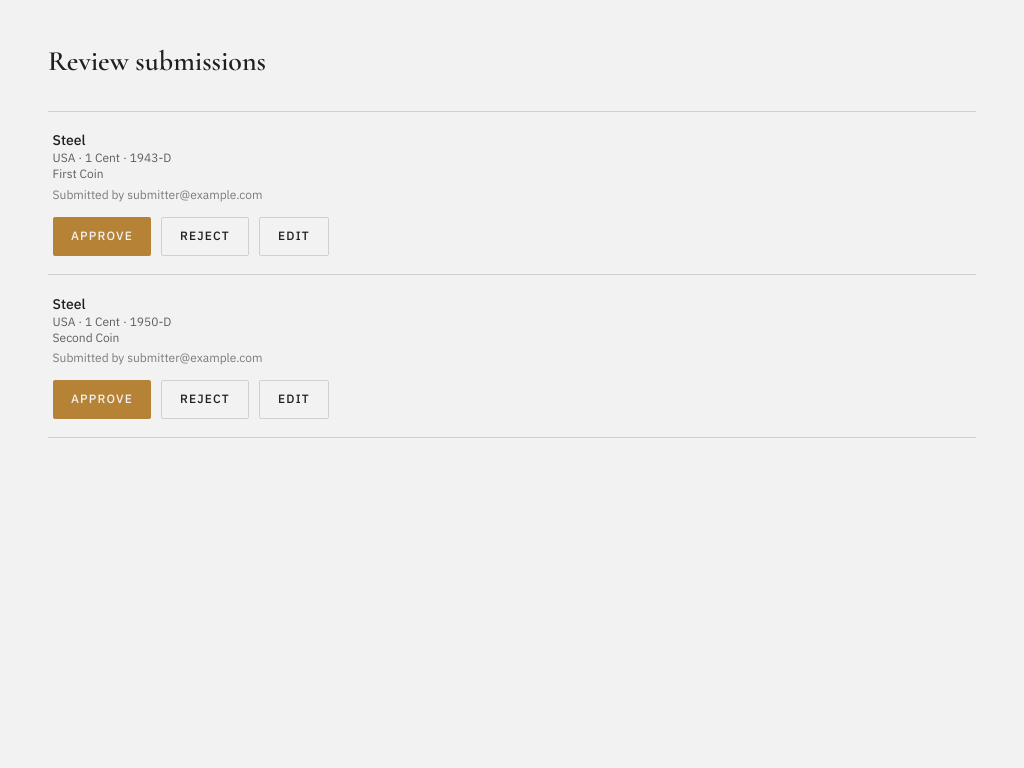
Scenario: AdminSubmissionsPage › reject (criteria #16, #20) › removes the rejected coin from the list after the refetch
Click the button with test id "admin-submission-reject": (205, 236) [161, 217, 249, 256]
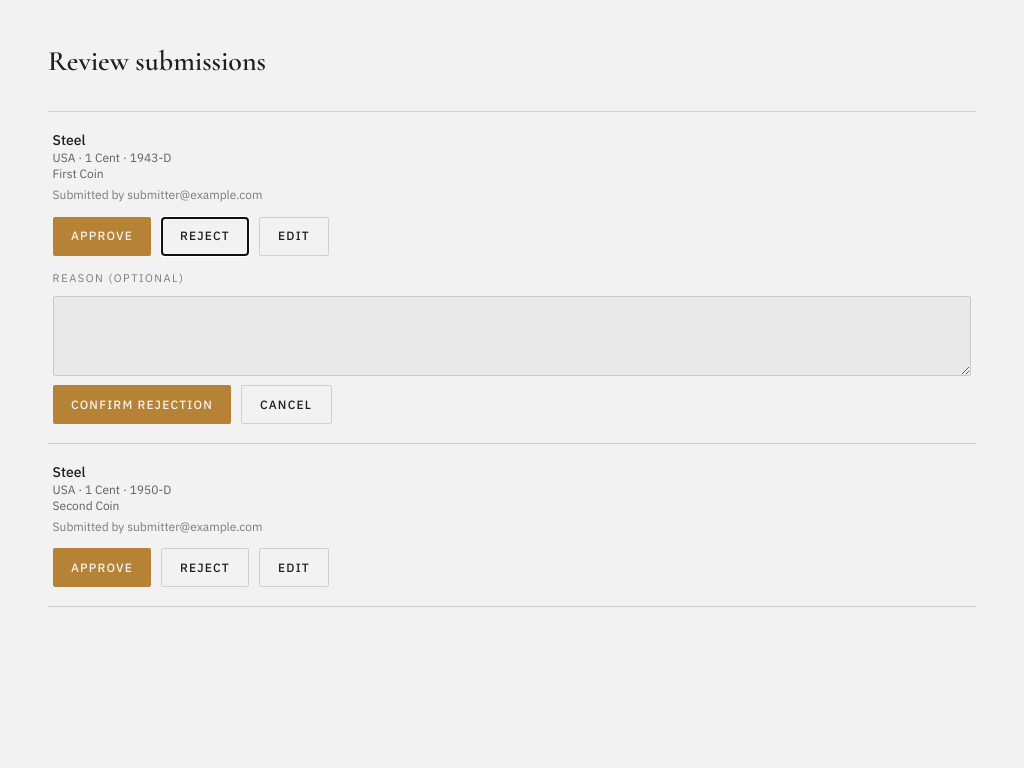
Click the button with test id "admin-submission-reject-confirm": (142, 405) [53, 385, 231, 424]
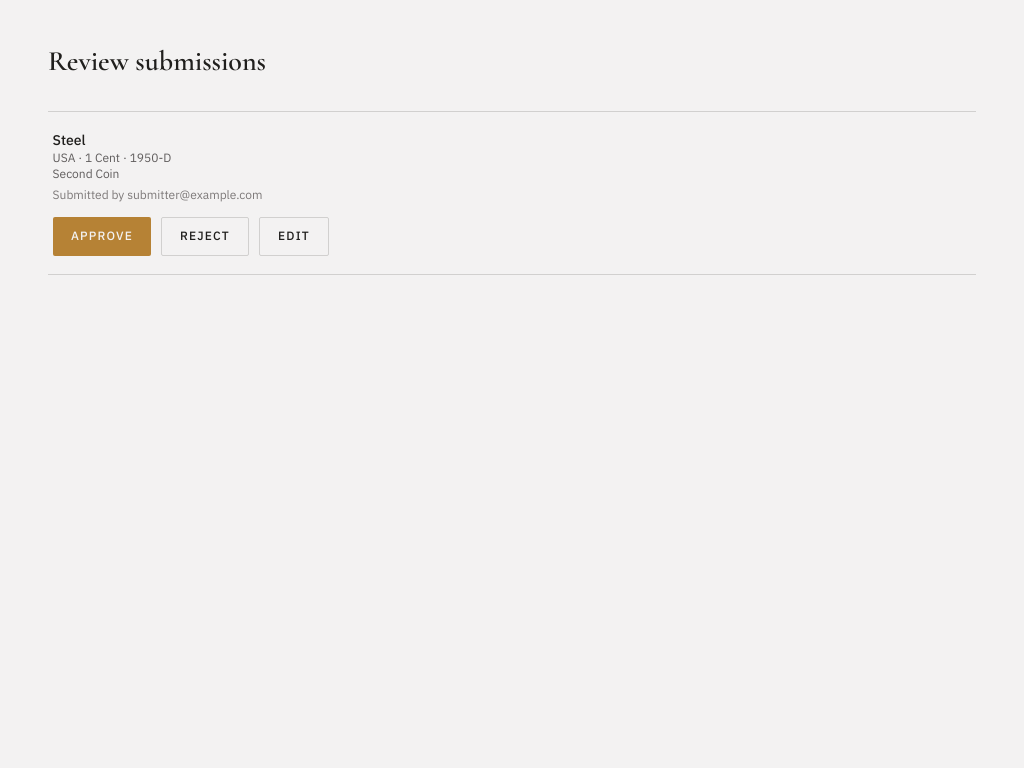
Expected: the element with test id "admin-submission-label" shows "Second Coin", [53, 166, 119, 181]
Now the number of list items with test id "admin-submission-item" is 1, box [48, 112, 976, 275]
